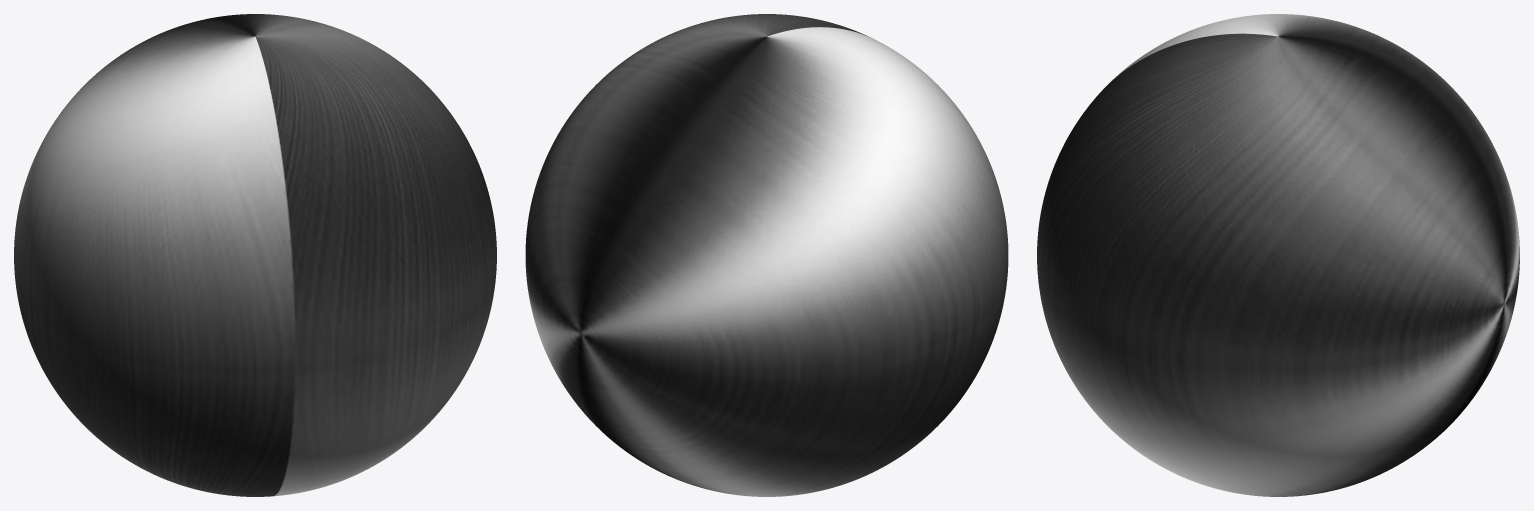
File: yingBall.obj
The picture shows the model from 3 angles, left to right: view 1: azimuth 30°, elevation 25°; view 2: azimuth 150°, elevation 25°; view 3: azimuth 270°, elevation 25°; orthographic projection.
Visible parts, largest first — view 1: Sphere001; view 2: Sphere001; view 3: Sphere001.
Boxes of the visible parts, x1,y1,x2,y2 form: Sphere001: [14, 14, 496, 496]; Sphere001: [525, 14, 1008, 496]; Sphere001: [1037, 14, 1519, 496].
Size of the model in its own units: 117 by 117 by 117.
Materials: 1 (1 with a texture image).
